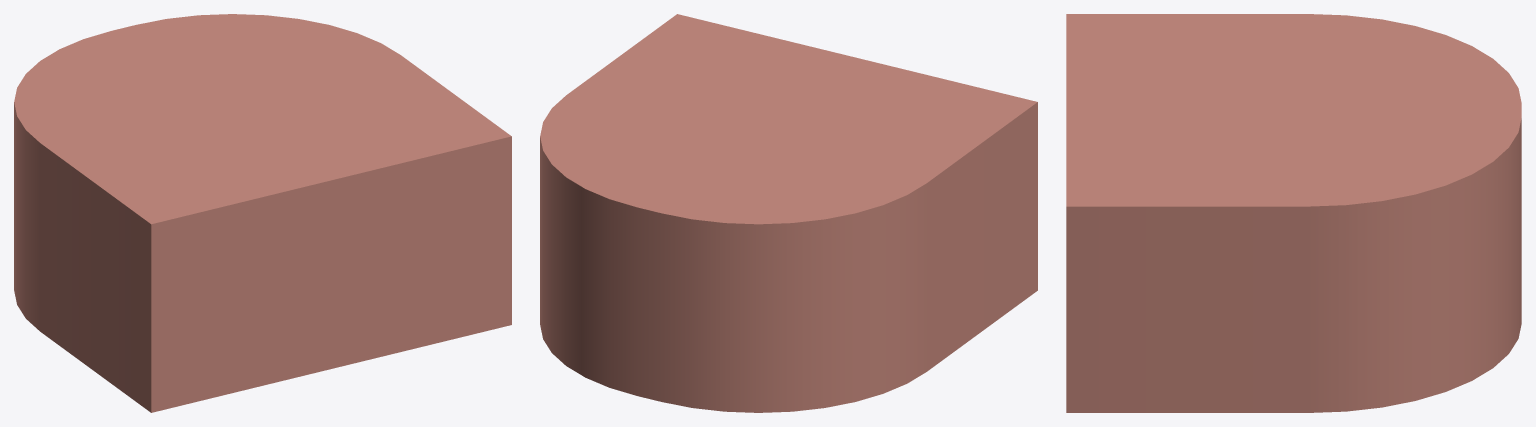
File: RoundedBlock02_20x10.fbx
3 views of the same model, side by side, from view 1: azimuth 30°, elevation 25°; view 2: azimuth 150°, elevation 25°; view 3: azimuth 270°, elevation 25° (orthographic). The views are drawn at different scales.
Visible parts, largest first — view 1: RoundedBlock02.002; view 2: RoundedBlock02.002; view 3: RoundedBlock02.002.
Part boxes in pixels (box(x1,y1,x2,y2)): RoundedBlock02.002: box(14, 14, 511, 412); RoundedBlock02.002: box(540, 14, 1037, 412); RoundedBlock02.002: box(1066, 14, 1521, 412).
Bounding box in the file's own units: 2000 × 1000 × 2000.
